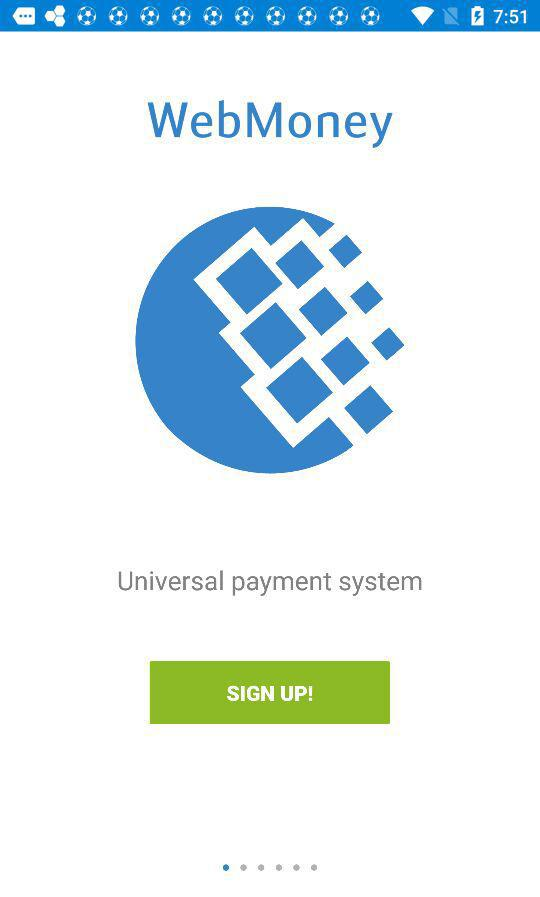Image: (134, 205, 405, 475)
PageIndicator: (222, 863, 319, 872)
Text: (147, 99, 394, 150), (118, 569, 423, 598)
TextButton: (150, 661, 391, 725)
UpperTaskBar: (1, 1, 540, 33)
